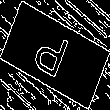P_SW: (33, 24, 77, 86)
